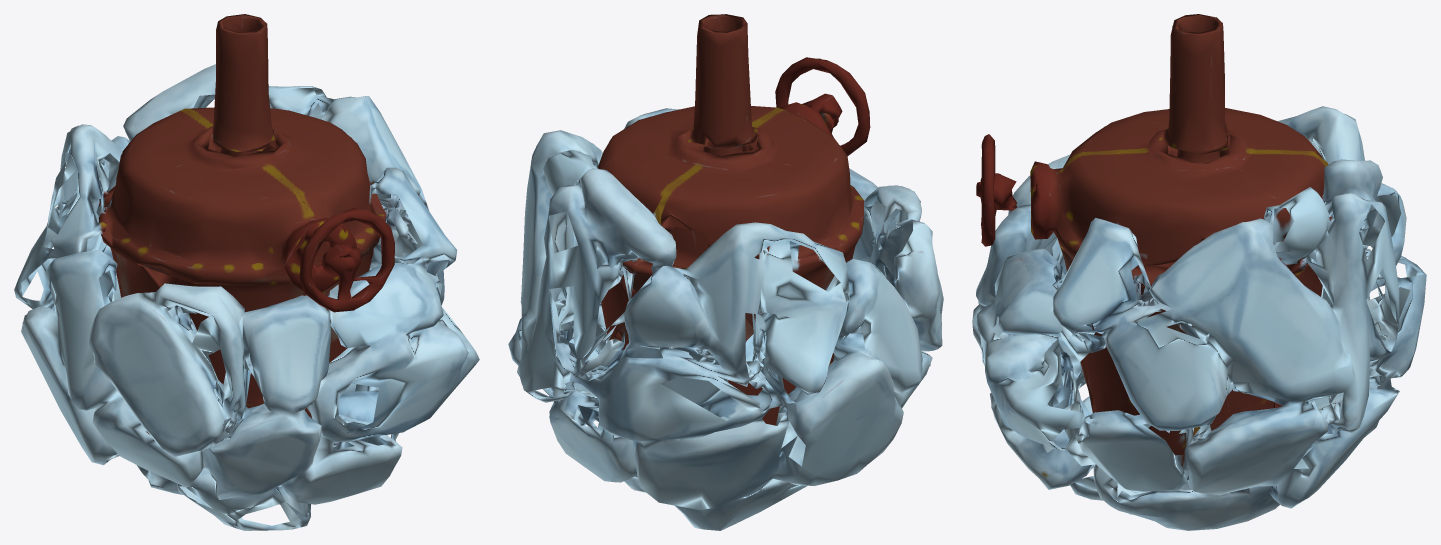
The model's file is led-skvazhina.glb.
The picture shows the model from 3 angles, left to right: view 1: azimuth 30°, elevation 25°; view 2: azimuth 150°, elevation 25°; view 3: azimuth 270°, elevation 25°; orthographic projection.
Visible parts, largest first — view 1: geometry_0; view 2: geometry_0; view 3: geometry_0.
Part boxes in pixels (left/top/right/bottom): geometry_0: left=14, top=14, right=479, bottom=530; geometry_0: left=508, top=14, right=943, bottom=530; geometry_0: left=972, top=14, right=1426, bottom=530.
Size of the model in its own units: 0.8379 by 0.9972 by 0.8653.
1 material, 1 textured.
